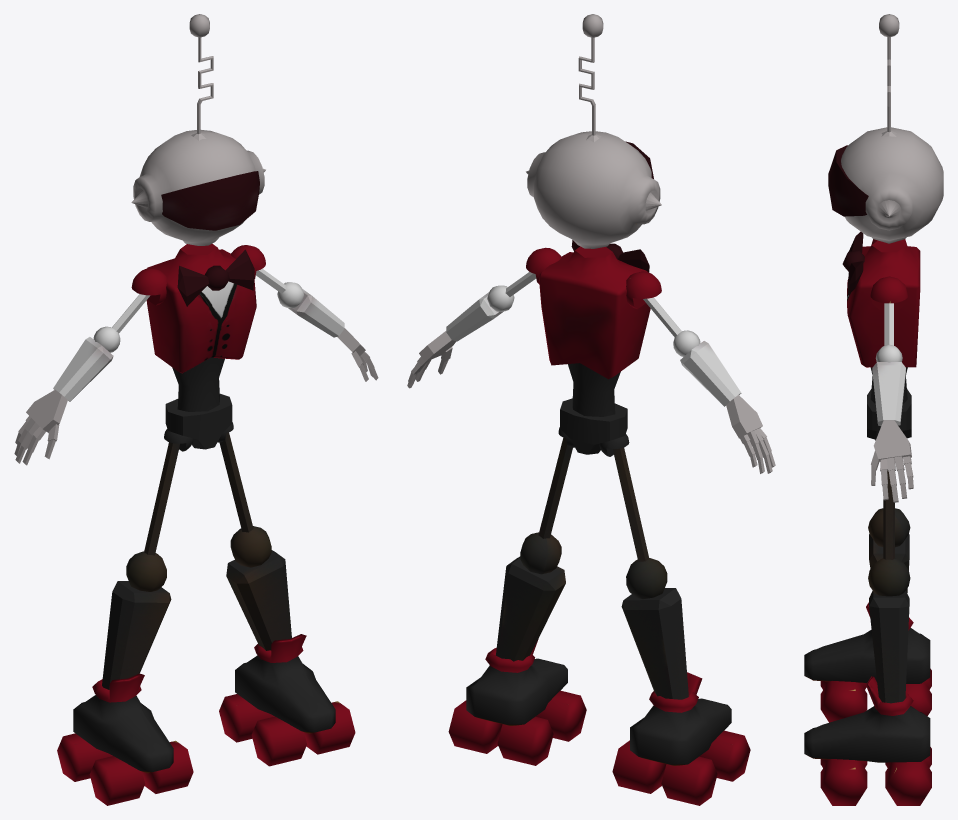
The model's file is robot2.fbx.
3 renders of one model, left to right at view 1: azimuth 30°, elevation 25°; view 2: azimuth 150°, elevation 25°; view 3: azimuth 270°, elevation 25°, orthographic. The views are drawn at different scales.
Visible parts, largest first — view 1: robot1; view 2: robot1; view 3: robot1.
Part boxes in pixels (x1,y1,x2,y2): robot1: [14, 14, 378, 805]; robot1: [407, 14, 775, 805]; robot1: [804, 14, 943, 805].
Bounding box in the file's own units: 226 × 446 × 77.03.
1 material, 1 textured.
